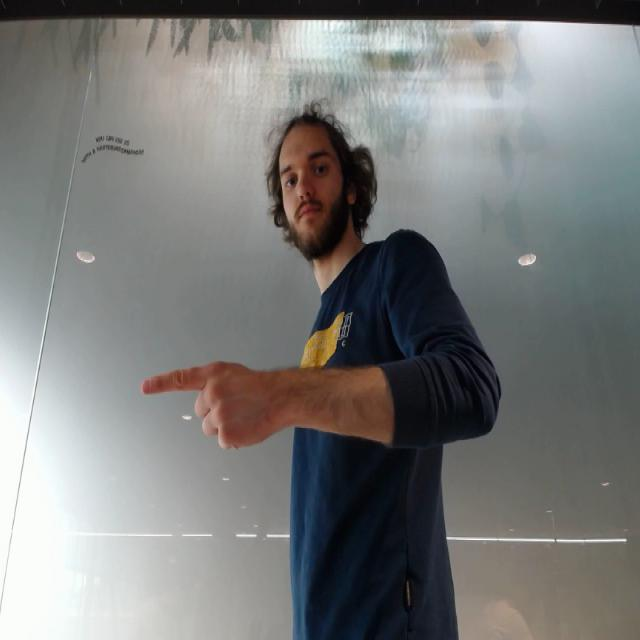left: (137, 356, 286, 454)
